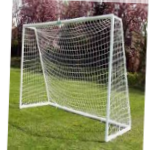goals: (18, 11, 133, 142)
